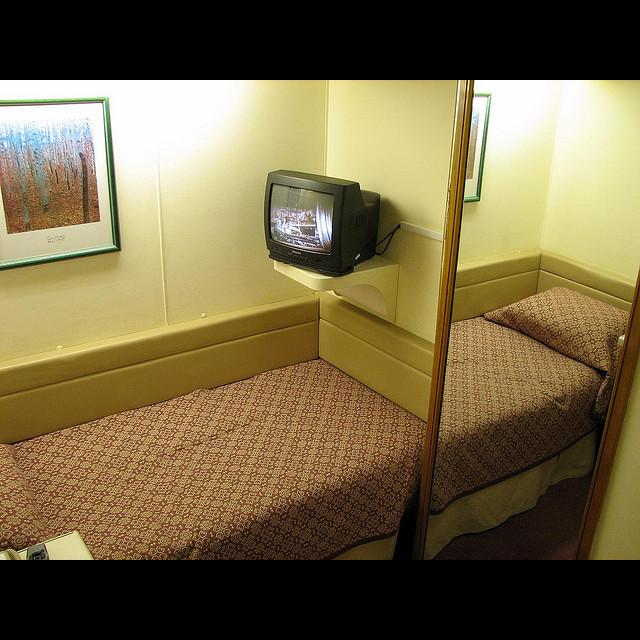Flat-Panel-TV: (270, 171, 376, 270)
TV-Remote-Control: (27, 541, 51, 560)
